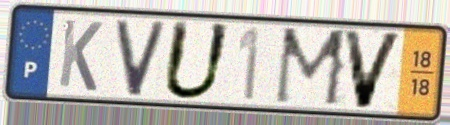1: (236, 25, 262, 104)
K: (56, 16, 106, 95)
M: (271, 25, 352, 110)
U: (158, 18, 235, 103)
V: (340, 27, 407, 112), (113, 18, 170, 100)
